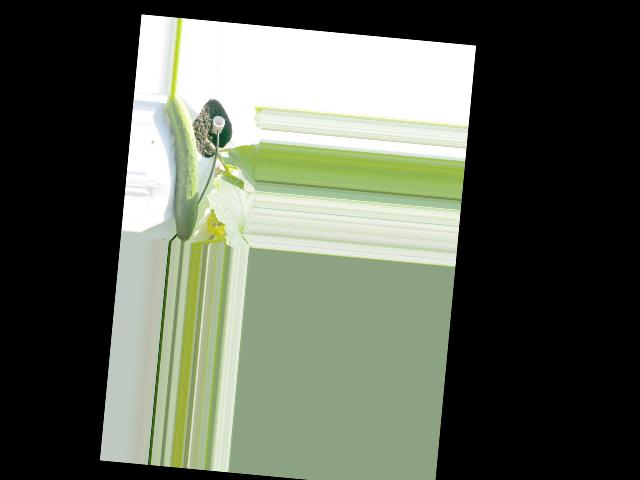cucumber: (153, 91, 208, 243)
